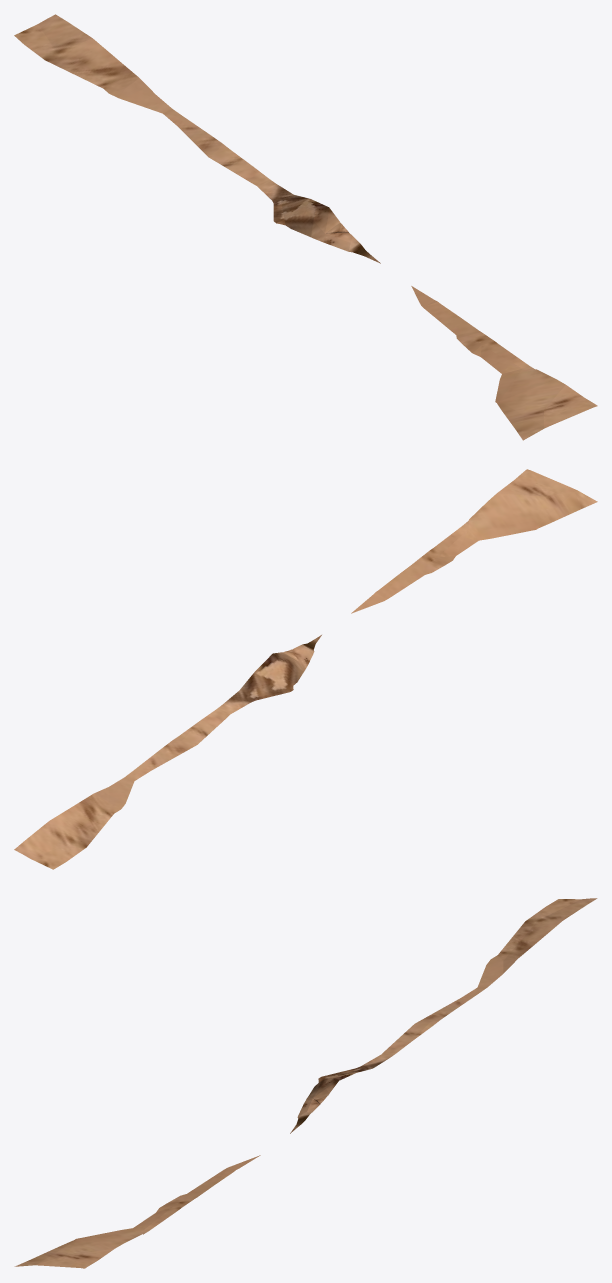
The picture shows the model from 3 angles, top to bottom: view 1: azimuth 30°, elevation 25°; view 2: azimuth 150°, elevation 25°; view 3: azimuth 330°, elevation 25°; orthographic projection. The views are drawn at different scales.
Bounding box in the file's own units: 0.0833 × 0.0194 × 1.04.
Materials: 1 (1 with a texture image).
